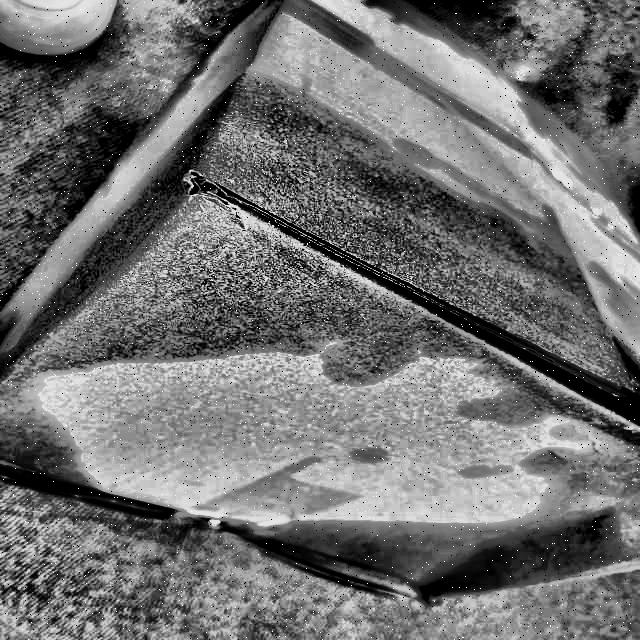box: (1, 1, 640, 612)
wet: (109, 132, 630, 411), (234, 433, 638, 607), (0, 351, 77, 515)
